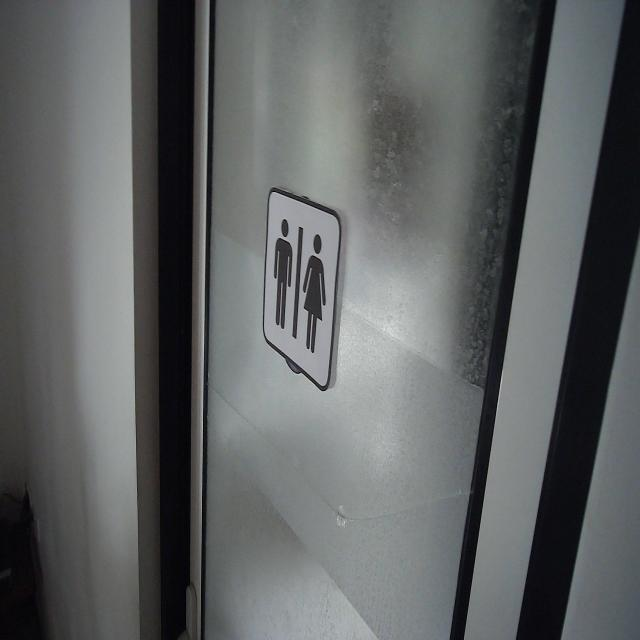restroom: (260, 182, 344, 396)
